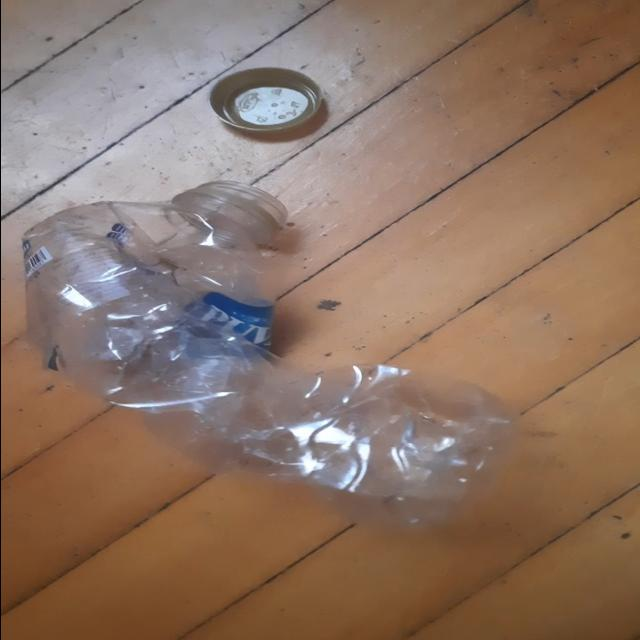Plastic: (21, 182, 518, 524)
